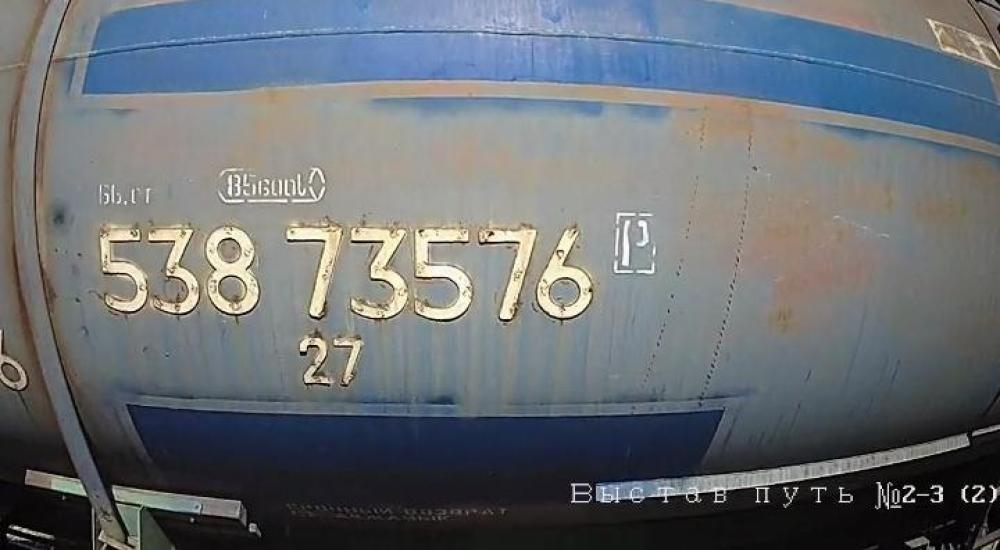Wagon-number: (94, 218, 602, 328)
